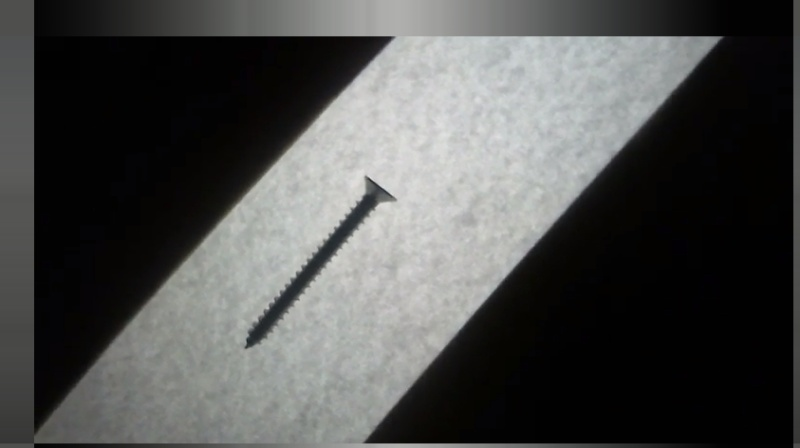S002: (238, 173, 401, 353)
